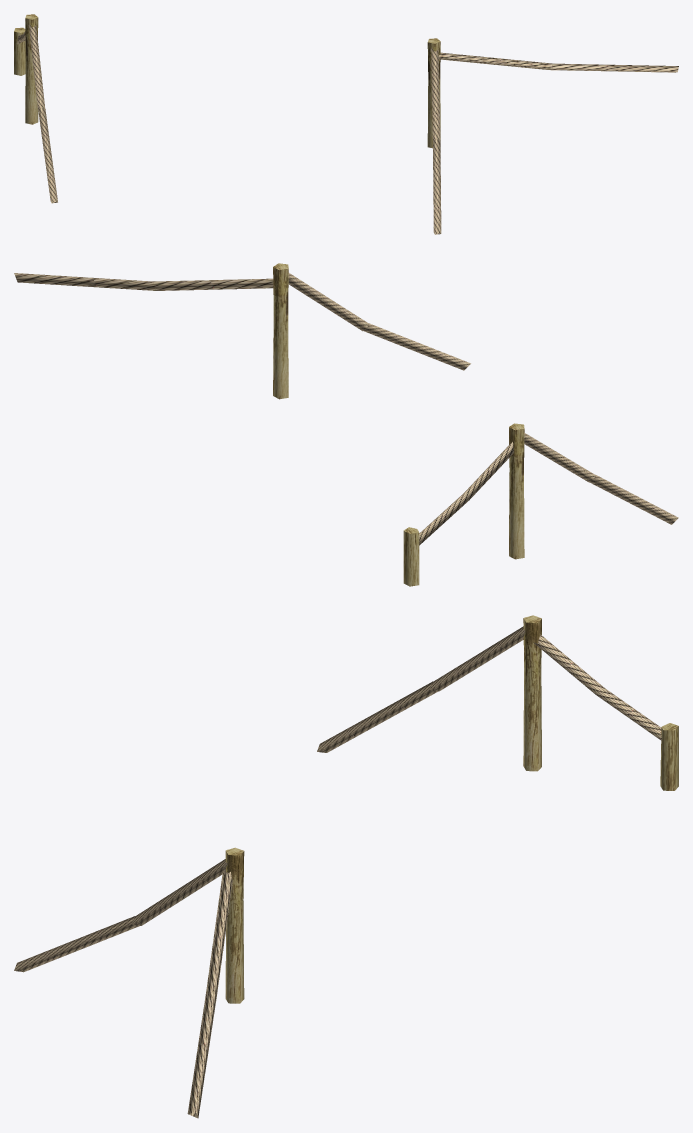
The model's file is track_chinese_env_woodensupports_06.FBX.
3 renders of one model, top to bottom at view 1: azimuth 30°, elevation 25°; view 2: azimuth 150°, elevation 25°; view 3: azimuth 270°, elevation 25°, orthographic. The views are drawn at different scales.
Parts seen in each view (by area): view 1: track_chinese_env_woodensupports_06; view 2: track_chinese_env_woodensupports_06; view 3: track_chinese_env_woodensupports_06.
Part boxes in pixels (x1,y1,x2,y2): track_chinese_env_woodensupports_06: (14, 14, 678, 234); track_chinese_env_woodensupports_06: (14, 263, 678, 586); track_chinese_env_woodensupports_06: (14, 615, 678, 1118).
Size of the model in its own units: 26.63 by 6.12 by 18.56.
